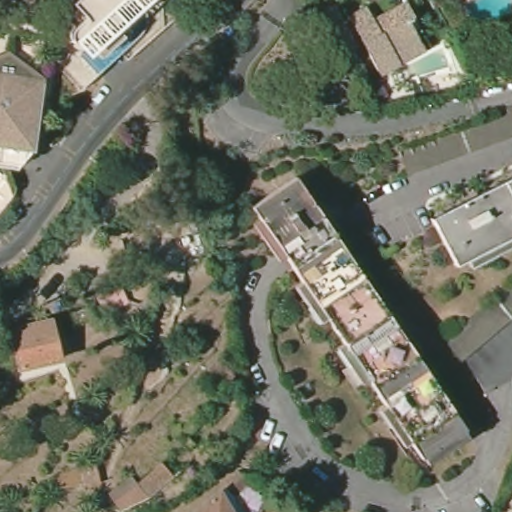pool: (83, 34, 130, 75), (460, 1, 511, 33)
